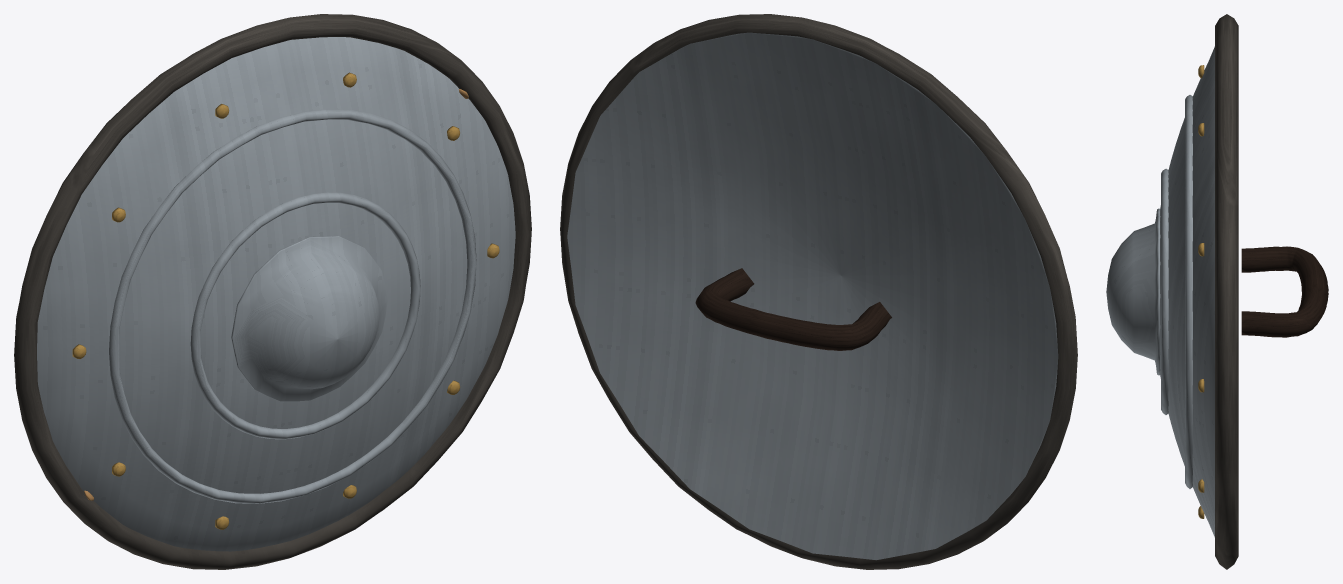
The model's file is buckler.lod1.glb.
3 views of the same model, side by side, from view 1: azimuth 30°, elevation 25°; view 2: azimuth 150°, elevation 25°; view 3: azimuth 270°, elevation 25° (orthographic). The views are drawn at different scales.
Parts seen in each view (by area): view 1: steel / forged blade steel, iron / hammer-scaled wrought iron, brass / polished brass furniture; view 2: steel / forged blade steel, iron / hammer-scaled wrought iron, leather / oiled leather wrap; view 3: steel / forged blade steel, iron / hammer-scaled wrought iron, leather / oiled leather wrap, brass / polished brass furniture.
Boxes of the visible parts, bbox=[...] form: steel / forged blade steel: bbox=[37, 37, 515, 551]; iron / hammer-scaled wrought iron: bbox=[14, 14, 531, 569]; brass / polished brass furniture: bbox=[72, 72, 499, 529]; steel / forged blade steel: bbox=[567, 32, 1058, 560]; iron / hammer-scaled wrought iron: bbox=[560, 14, 1077, 569]; leather / oiled leather wrap: bbox=[695, 268, 891, 350]; steel / forged blade steel: bbox=[1106, 46, 1214, 537]; iron / hammer-scaled wrought iron: bbox=[1215, 14, 1238, 569]; leather / oiled leather wrap: bbox=[1241, 246, 1328, 337]; brass / polished brass furniture: bbox=[1198, 65, 1204, 518].
Size of the model in its own units: 0.376 by 0.3753 by 0.1503.
Materials: 5 (4 with a texture image).
